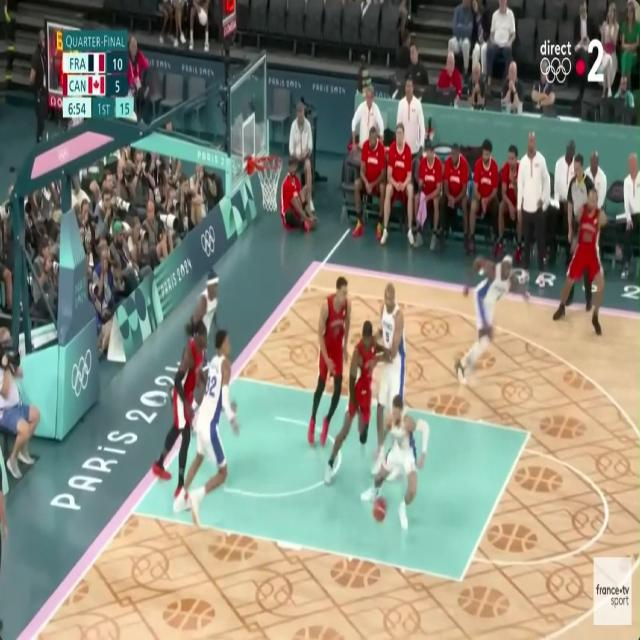ball_handler: (373, 392, 413, 518)
